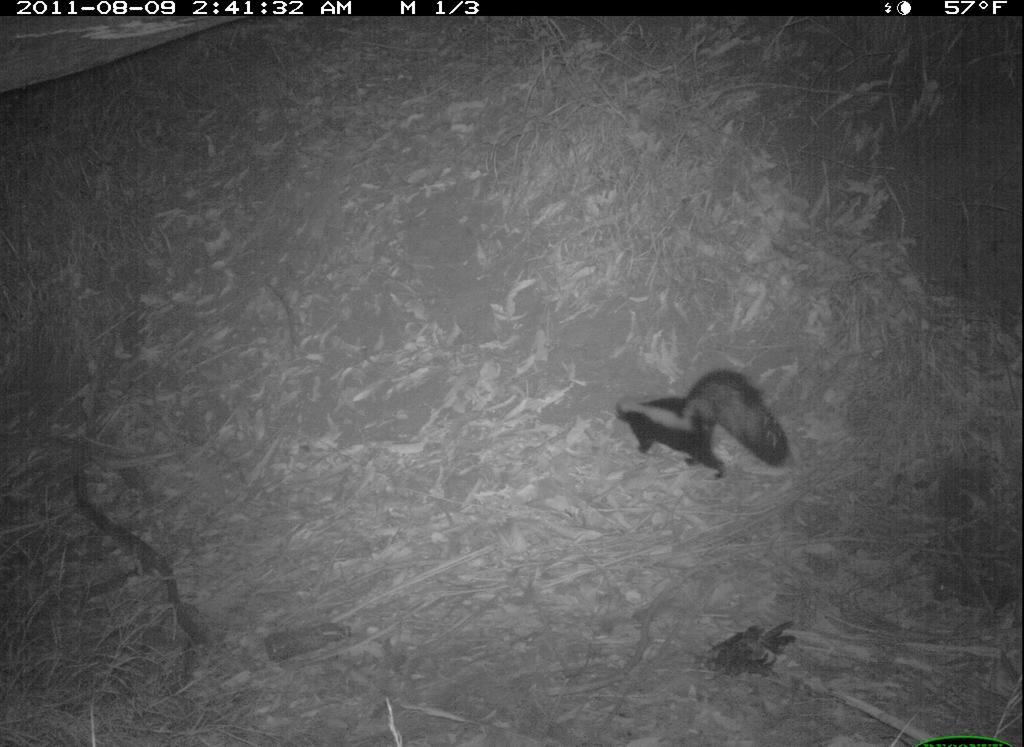skunk: (611, 364, 792, 488)
